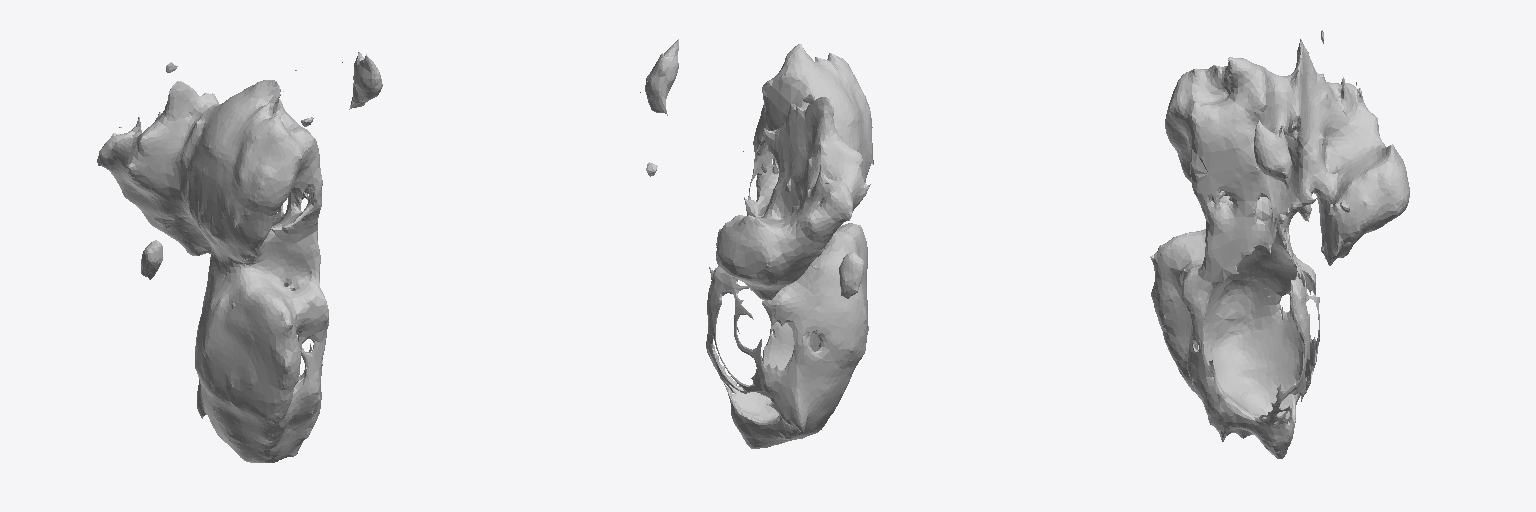
File: seg_2.obj
3 views of the same model, side by side, from view 1: azimuth 30°, elevation 25°; view 2: azimuth 150°, elevation 25°; view 3: azimuth 270°, elevation 25° (orthographic).
Parts seen in each view (by area): view 1: grp1; view 2: grp1; view 3: grp1.
Boxes of the visible parts, x1,y1,x2,y2 form: grp1: [97, 52, 382, 462]; grp1: [640, 39, 873, 448]; grp1: [1150, 30, 1409, 458].
Bounding box in the file's own units: 60.65 × 93.46 × 56.54.